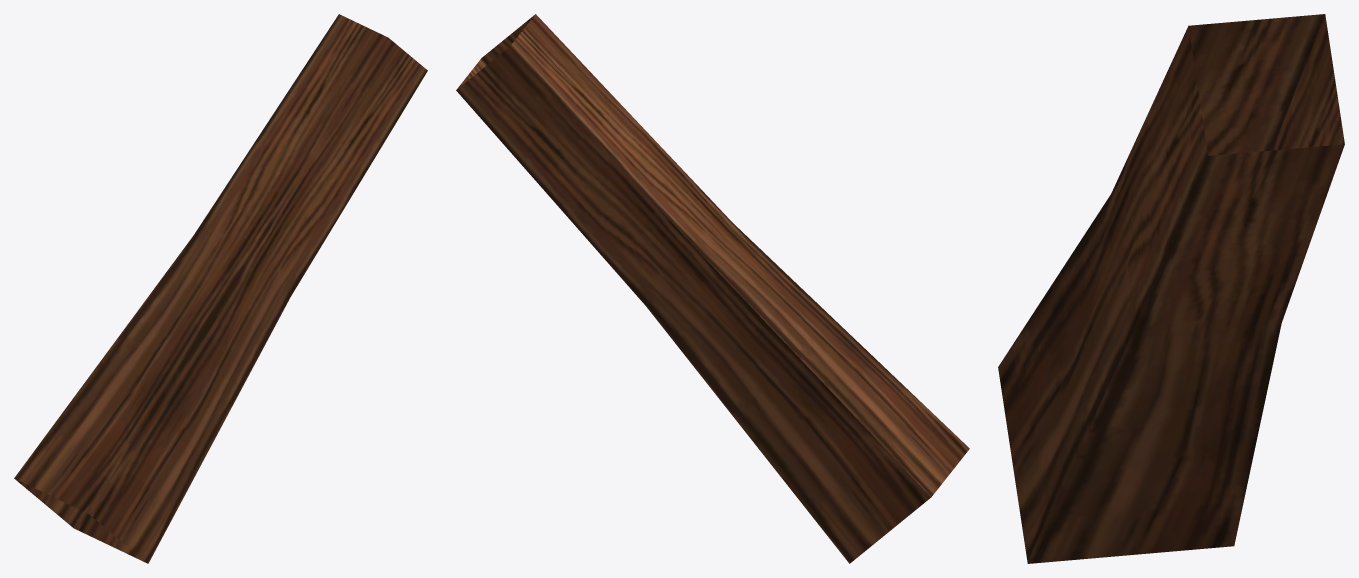
Rendered from OVERHILL_A_01_POST23.fbx.
3 views of the same model, side by side, from view 1: azimuth 30°, elevation 25°; view 2: azimuth 150°, elevation 25°; view 3: azimuth 270°, elevation 25° (orthographic). The views are drawn at different scales.
Visible parts, largest first — view 1: OVERHILL_A_01_POST23; view 2: OVERHILL_A_01_POST23; view 3: OVERHILL_A_01_POST23.
Part boxes in pixels (bbox=[...]): OVERHILL_A_01_POST23: bbox=[14, 14, 427, 563]; OVERHILL_A_01_POST23: bbox=[456, 14, 969, 563]; OVERHILL_A_01_POST23: bbox=[998, 14, 1344, 563].
Bounding box in the file's own units: 7143 × 7005 × 2765.
1 material, 1 textured.
